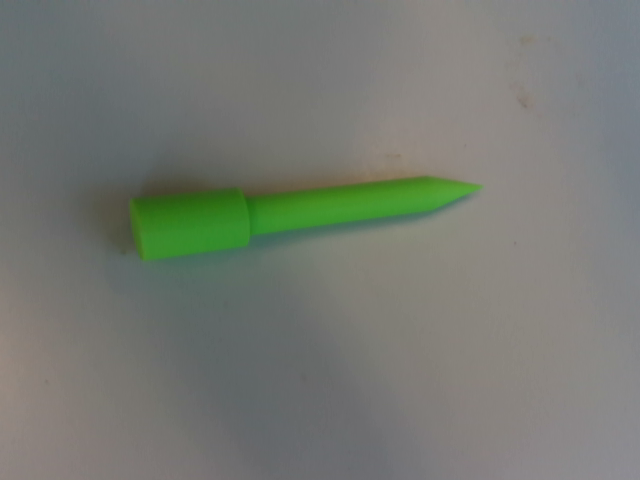Probe: (123, 169, 492, 272)
